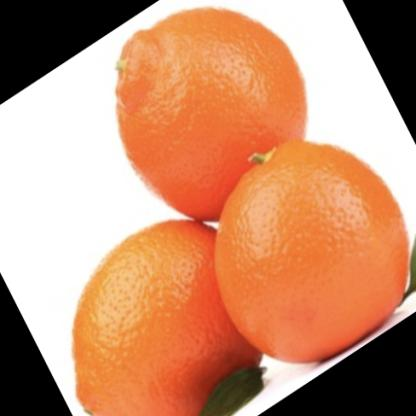fresh: (69, 3, 408, 416)
